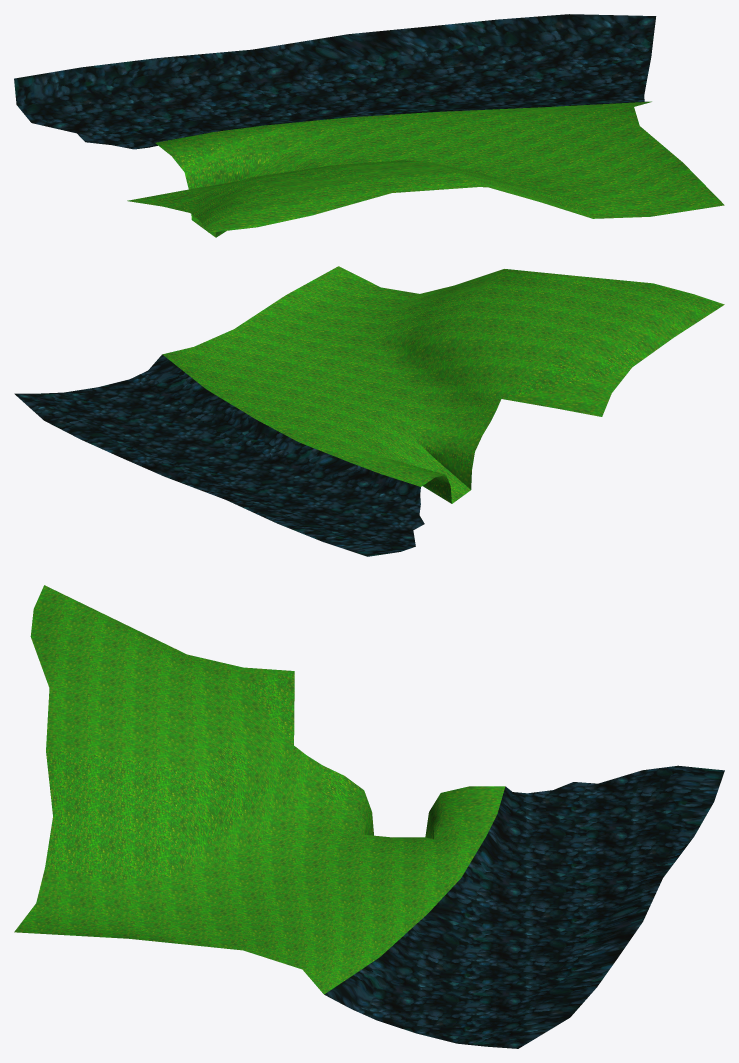
File: HTOWN01_PS18.fbx
3 renders of one model, top to bottom at view 1: azimuth 30°, elevation 25°; view 2: azimuth 150°, elevation 25°; view 3: azimuth 270°, elevation 25°, orthographic. The views are drawn at different scales.
Visible parts, largest first — view 1: HTOWN01_PS18; view 2: HTOWN01_PS18; view 3: HTOWN01_PS18.
Boxes of the visible parts, box(x1,y1,x2,y2) form: HTOWN01_PS18: box(14, 14, 724, 237); HTOWN01_PS18: box(14, 266, 724, 556); HTOWN01_PS18: box(14, 585, 724, 1048).
Bounding box in the file's own units: 505995 × 114703 × 439518.
Materials: 3 (3 with a texture image).
